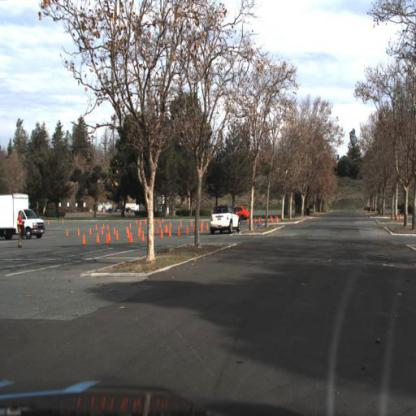car: (211, 204, 242, 235), (233, 205, 251, 219)
pedestrian: (18, 208, 25, 247)
truck: (1, 193, 46, 241)
